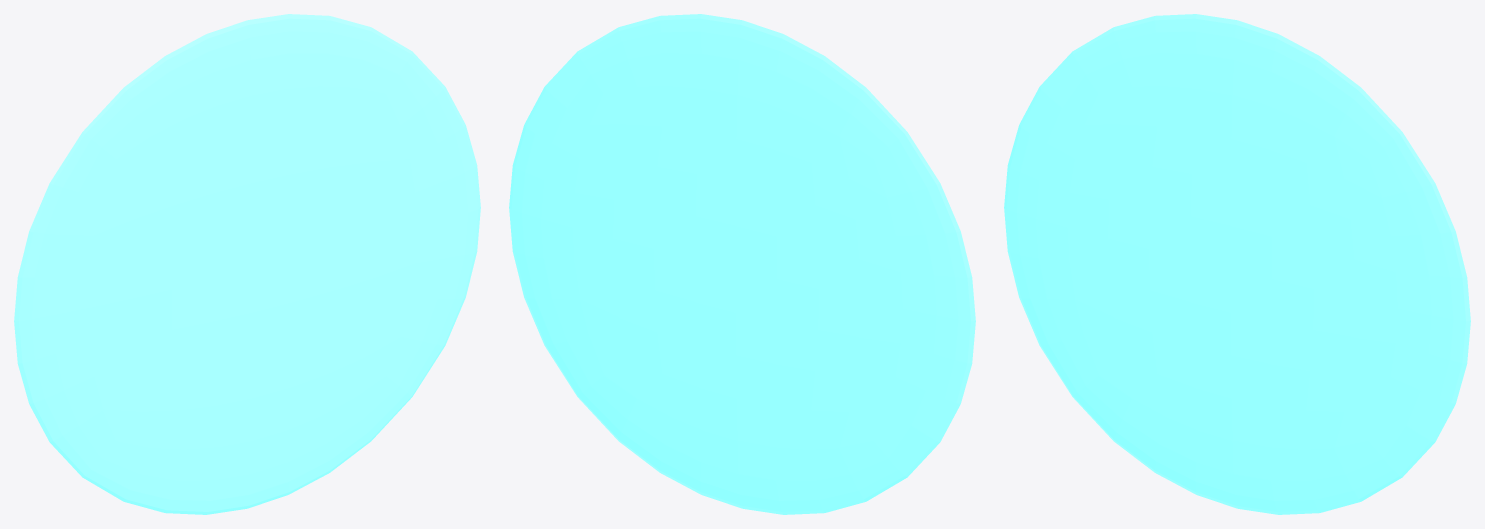
Rendered from LaserMark.fbx.
3 views of the same model, side by side, from view 1: azimuth 30°, elevation 25°; view 2: azimuth 150°, elevation 25°; view 3: azimuth 330°, elevation 25° (orthographic).
Parts seen in each view (by area): view 1: Roundcube; view 2: Roundcube; view 3: Roundcube.
Part boxes in pixels (left/top/right/bottom): Roundcube: left=14, top=14, right=480, bottom=514; Roundcube: left=509, top=14, right=975, bottom=514; Roundcube: left=1004, top=14, right=1470, bottom=514.
Size of the model in its own units: 2 by 2 by 0.1.
